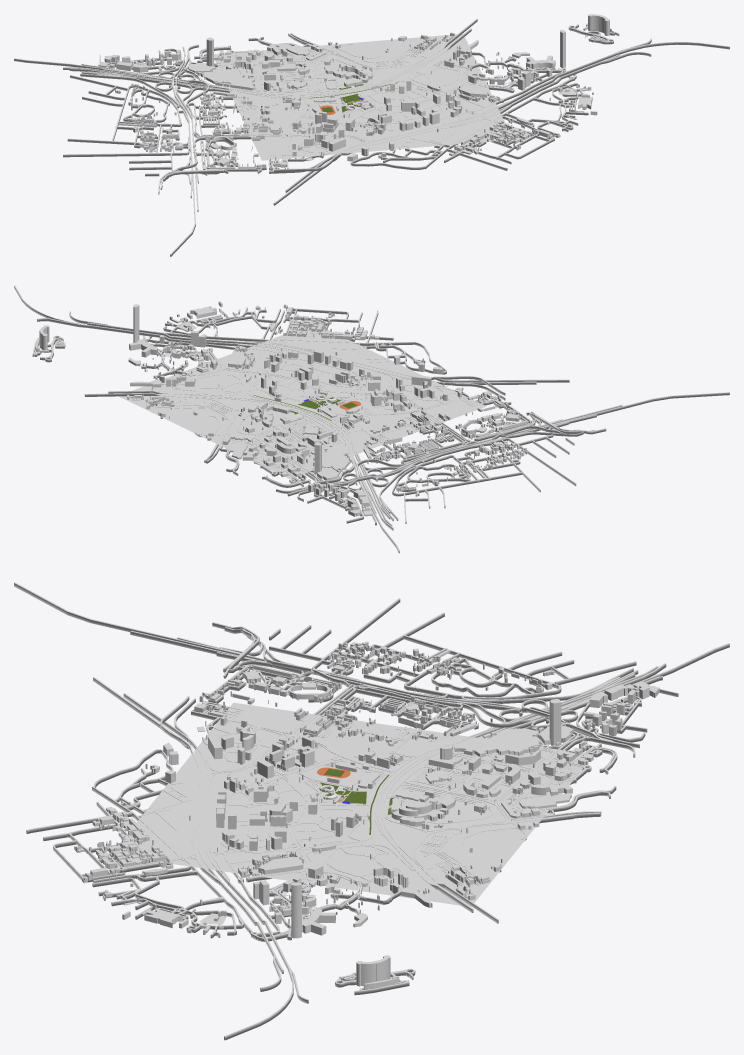
Rendered from Fay_Residence_mini_map.glb.
3 renders of one model, top to bottom at view 1: azimuth 30°, elevation 25°; view 2: azimuth 150°, elevation 25°; view 3: azimuth 270°, elevation 25°, orthographic. The views are drawn at different scales.
Visible parts, largest first — view 1: road, Build, ground, tree; view 2: road, Build, ground, tree; view 3: road, Build, ground, tree.
Part boxes in pixels (box(x1,y1,x2,y2)): road: box(14, 18, 729, 256); Build: box(98, 14, 611, 169); ground: box(214, 33, 512, 160); tree: box(309, 82, 397, 114); road: box(14, 285, 729, 553); Build: box(35, 301, 531, 516); ground: box(119, 323, 486, 478); tree: box(253, 395, 360, 420); road: box(14, 582, 729, 1040); Build: box(74, 641, 659, 988); ground: box(111, 702, 593, 906); tree: box(317, 767, 394, 834).
Size of the model in its own units: 5688 by 325 by 3757.
Materials: 8 (1 with a texture image).
